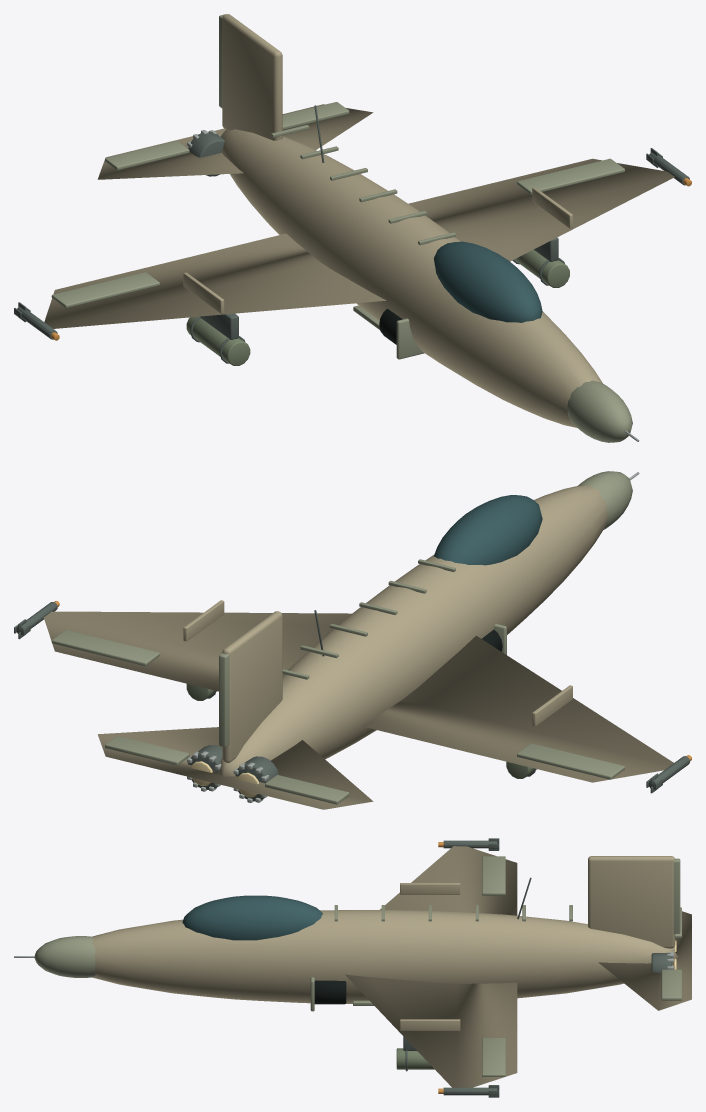
The model's file is fighter.glb.
3 views of the same model, one above another, from view 1: azimuth 30°, elevation 25°; view 2: azimuth 150°, elevation 25°; view 3: azimuth 270°, elevation 25° (orthographic). The views are drawn at different scales.
Parts seen in each view (by area): view 1: Fighter_Sand_armor, Canopy, Fighter_Armor_edge, Fighter_Gun_steel, Fighter_Field_olive, Aileron surface, Aileron surface.001, Elevator surface, Elevator surface.001; view 2: Fighter_Sand_armor, Canopy, Fighter_Armor_edge, Fighter_Gun_steel, Aileron surface, Aileron surface.001, Elevator surface, Elevator surface.001, Rudder surface, Fighter_Recoil_steel, Fighter_Field_olive; view 3: Fighter_Sand_armor, Canopy, Fighter_Armor_edge, Fighter_Gun_steel, Aileron surface, Aileron surface.001, Fighter_Black_bore, Elevator surface.001, Rudder surface, Fighter_Field_olive.
Boxes of the visible parts, left/top/right/bottom form: Fighter_Sand_armor: left=44, top=14, right=674, bottom=427; Canopy: left=434, top=241, right=542, bottom=322; Fighter_Armor_edge: left=271, top=125, right=632, bottom=442; Fighter_Gun_steel: left=14, top=105, right=689, bottom=363; Fighter_Field_olive: left=186, top=249, right=569, bottom=365; Aileron surface: left=51, top=272, right=159, bottom=308; Aileron surface.001: left=517, top=158, right=624, bottom=194; Elevator surface: left=105, top=141, right=189, bottom=170; Elevator surface.001: left=282, top=102, right=349, bottom=129; Fighter_Sand_armor: left=43, top=485, right=673, bottom=809; Canopy: left=434, top=495, right=542, bottom=565; Fighter_Armor_edge: left=282, top=471, right=632, bottom=679; Fighter_Gun_steel: left=14, top=602, right=689, bottom=801; Aileron surface: left=517, top=743, right=624, bottom=779; Aileron surface.001: left=51, top=630, right=159, bottom=665; Elevator surface: left=265, top=775, right=349, bottom=804; Elevator surface.001: left=105, top=736, right=189, bottom=765; Rudder surface: left=219, top=653, right=229, bottom=747; Fighter_Recoil_steel: left=187, top=472, right=639, bottom=802; Fighter_Field_olive: left=186, top=684, right=536, bottom=778; Fighter_Sand_armor: left=92, top=846, right=691, bottom=1087; Canopy: left=182, top=895, right=322, bottom=940; Fighter_Armor_edge: left=34, top=905, right=572, bottom=1011; Fighter_Gun_steel: left=403, top=838, right=671, bottom=1097; Aileron surface: left=482, top=856, right=505, bottom=895; Aileron surface.001: left=482, top=1038, right=505, bottom=1076; Fighter_Black_bore: left=314, top=980, right=346, bottom=1004; Elevator surface.001: left=661, top=969, right=681, bottom=1000; Rudder surface: left=673, top=858, right=680, bottom=933; Fighter_Field_olive: left=396, top=1048, right=434, bottom=1069.
Size of the model in its own units: 8.84 by 2.49 by 10.1.
